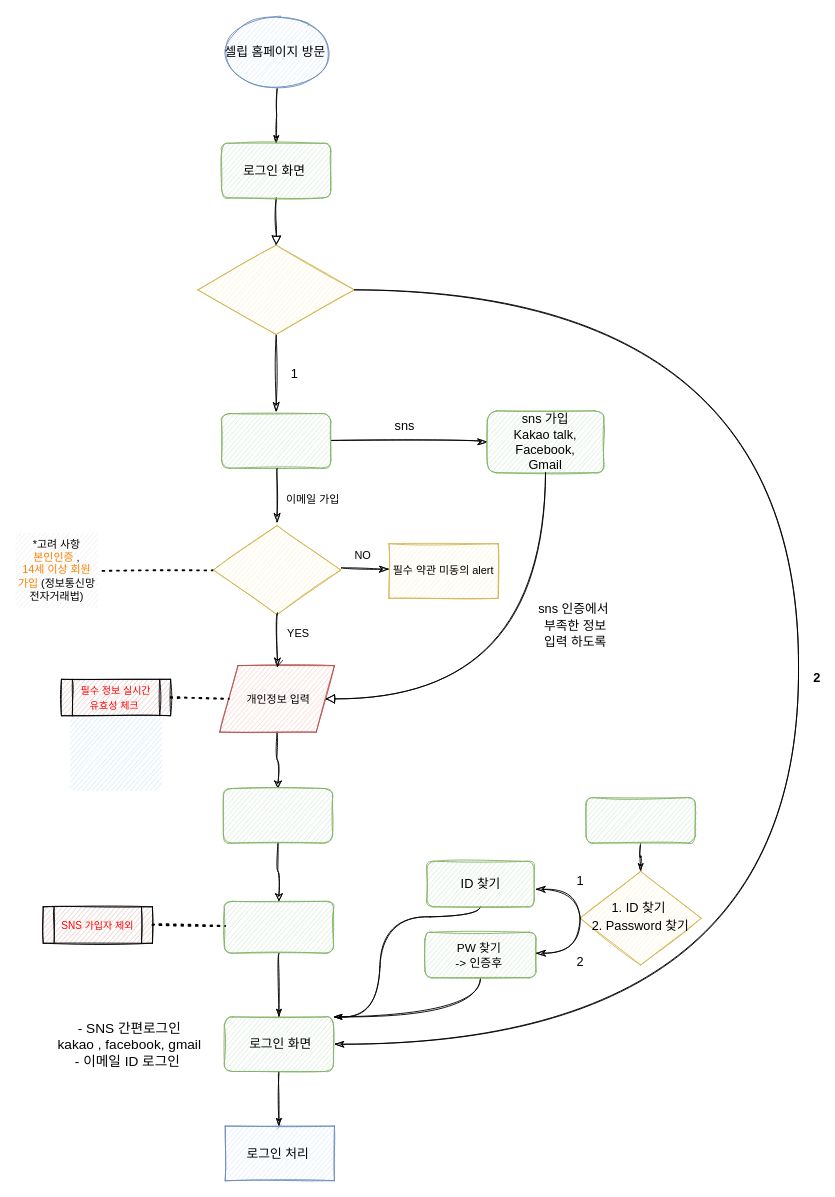
Image size: 835x1197. Some labels were removed from this diagram. Here are the shapes that lost their labels. From the top down, the centre of each, then its label:
point 275,289: 1. 신규방문자 2. 회원방문
point 276,440: 회원가입 sns / 이메일 가입
point 276,570: 이용 약관 및 개인정보 동의 체크
point 115,751: 1. 이메일 2. 이름 3. 성별 4. 전화번호
point 277,815: 회원 가입 완료
point 640,820: ID / Password 분실 회원
point 278,926: 가입 완료 시 확인 인증 메일 발송
